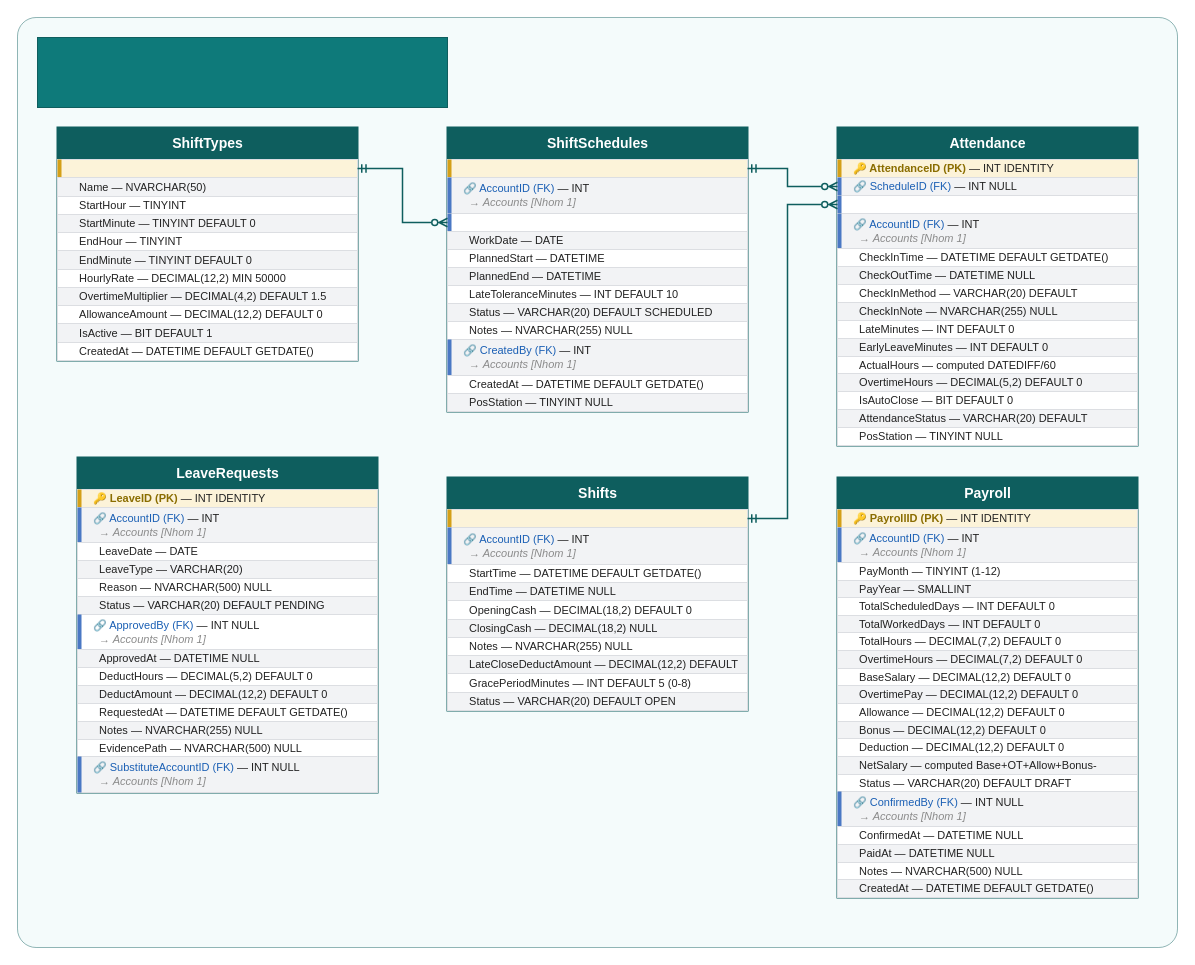
Image size: 1195x965. Some labels were removed from this diagram. The shapes that lost their labels are listed below. From the top down, each one's centre as x and y in pixels, then its label:
the point at 242,72: NHOM 2 — NHAN SU: CA LAM, CHAM CONG & LUONG
the point at 207,168: 🔑 ShiftTypeID (PK) — INT IDENTITY
the point at 597,168: 🔑 ScheduleID (PK) — INT IDENTITY
the point at 597,222: 🔗 ShiftTypeID (FK) — INT
the point at 987,204: 🔗 ShiftID (FK) — INT NULL
the point at 597,518: 🔑 ShiftID (PK) — INT IDENTITY
